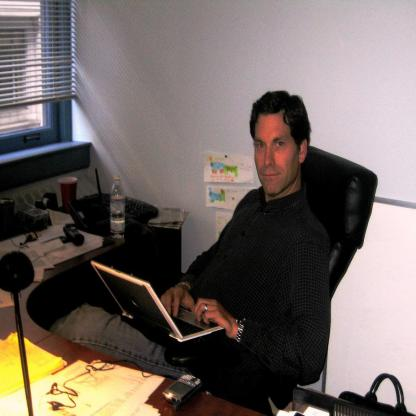board: (90, 260, 225, 346), (111, 174, 126, 245), (60, 176, 77, 212)
